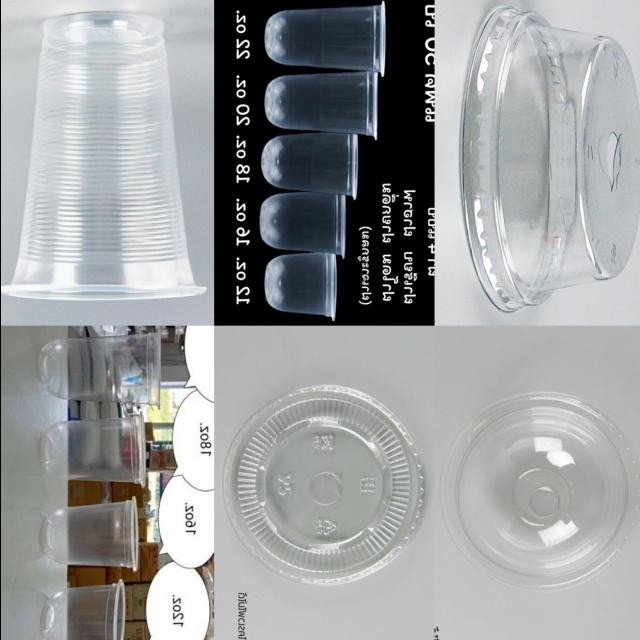plastik: (0, 12, 205, 300), (461, 8, 640, 311), (225, 385, 424, 585), (440, 393, 640, 590), (37, 333, 159, 405), (265, 1, 384, 74), (40, 416, 145, 484), (265, 72, 376, 136), (41, 498, 137, 569), (261, 133, 357, 199), (259, 192, 344, 257), (41, 581, 124, 640), (264, 253, 335, 320)
